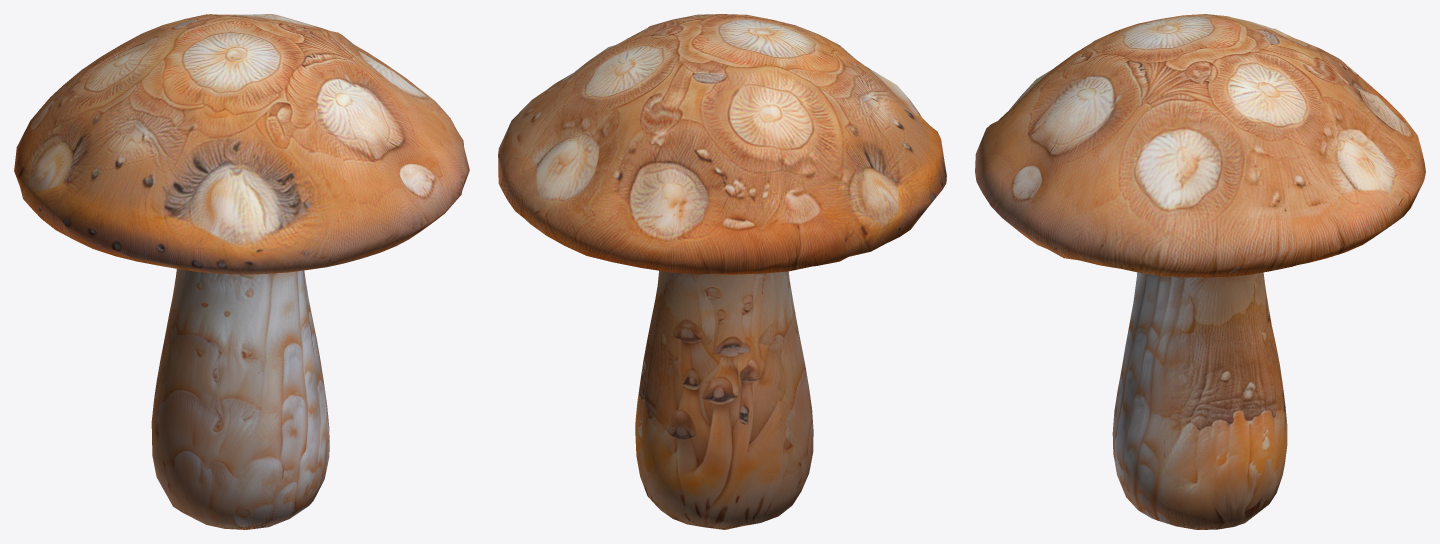
The model's file is cc0_-_mushroom_2.glb.
3 views of the same model, side by side, from view 1: azimuth 30°, elevation 25°; view 2: azimuth 150°, elevation 25°; view 3: azimuth 270°, elevation 25° (orthographic).
Parts seen in each view (by area): view 1: Mushroom2_Mushroom2_0; view 2: Mushroom2_Mushroom2_0; view 3: Mushroom2_Mushroom2_0.
Part boxes in pixels (x1,y1,x2,y2): Mushroom2_Mushroom2_0: (14, 14, 469, 529); Mushroom2_Mushroom2_0: (498, 14, 946, 529); Mushroom2_Mushroom2_0: (975, 14, 1425, 529).
Bounding box in the file's own units: 0.1341 × 0.1572 × 0.1352.
1 material, 1 textured.
